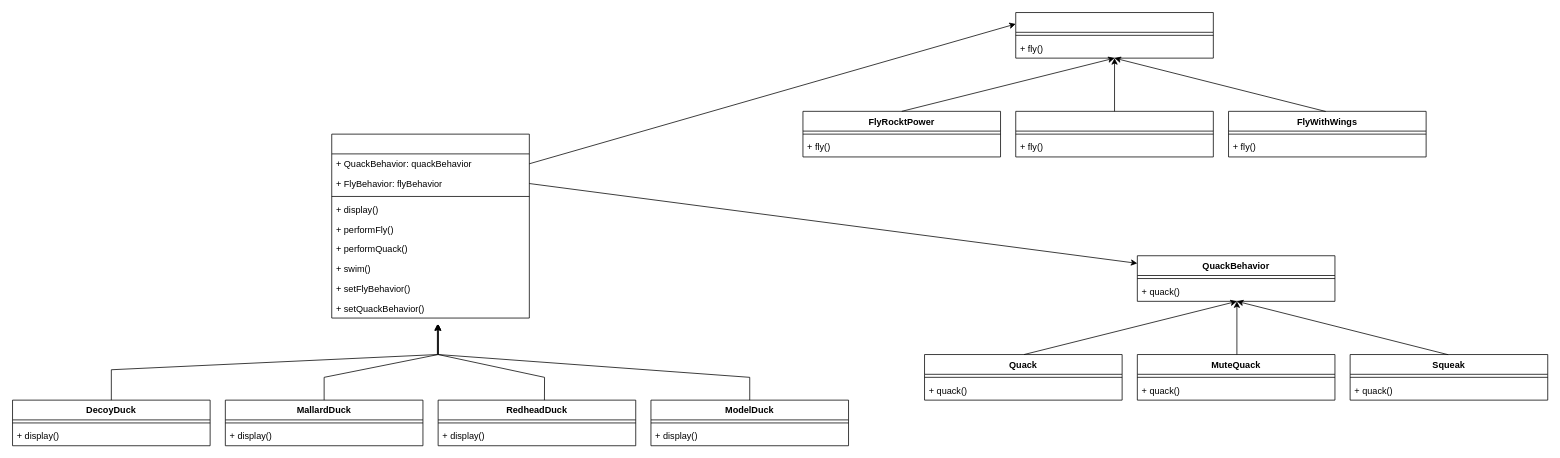
The diagram is 1560 pixels wide and 458 high, and some of its shapes have lost their labels. The shapes that lost their labels are listed below. From the top down, each one's box as (x1, y1, x2, y2) in pixels, then its label:
(1015, 12, 1213, 58): FlyBehavior
(1015, 111, 1213, 157): FlyNoWay
(331, 133, 529, 318): Duck
